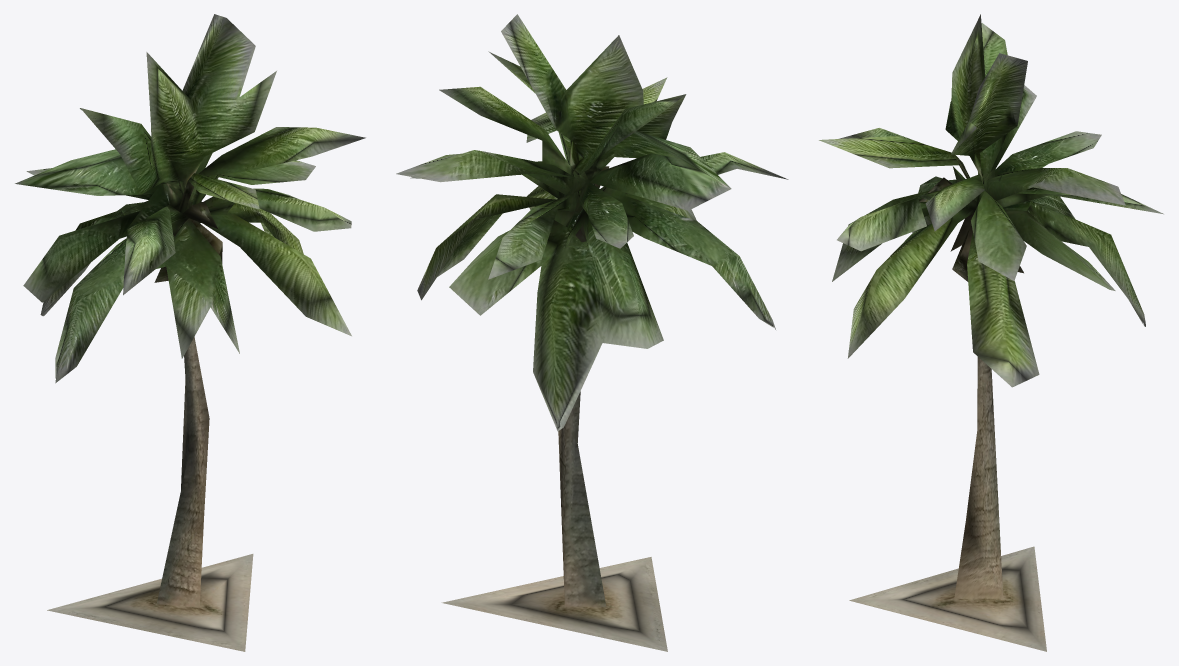
Rendered from cocotier_low.glb.
The picture shows the model from 3 angles, left to right: view 1: azimuth 30°, elevation 25°; view 2: azimuth 150°, elevation 25°; view 3: azimuth 270°, elevation 25°; orthographic projection. The views are drawn at different scales.
Parts seen in each view (by area): view 1: tripo_node_8ca2c98b-c80c-43f6-80c4-212db7044965; view 2: tripo_node_8ca2c98b-c80c-43f6-80c4-212db7044965; view 3: tripo_node_8ca2c98b-c80c-43f6-80c4-212db7044965.
Boxes of the visible parts, x1,y1,x2,y2 form: tripo_node_8ca2c98b-c80c-43f6-80c4-212db7044965: (15,14,365,651); tripo_node_8ca2c98b-c80c-43f6-80c4-212db7044965: (396,14,788,651); tripo_node_8ca2c98b-c80c-43f6-80c4-212db7044965: (819,14,1163,651).
Bounding box in the file's own units: 0.554 × 0.9391 × 0.513.
1 material, 1 textured.
